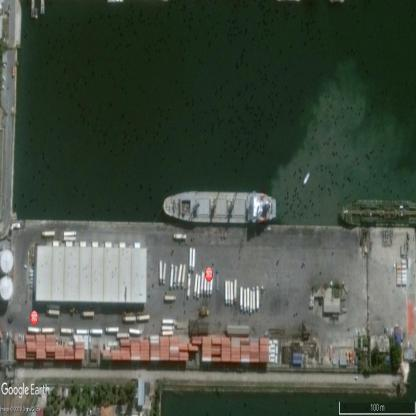ship: (164, 189, 277, 225), (337, 197, 416, 227), (302, 170, 311, 185)
